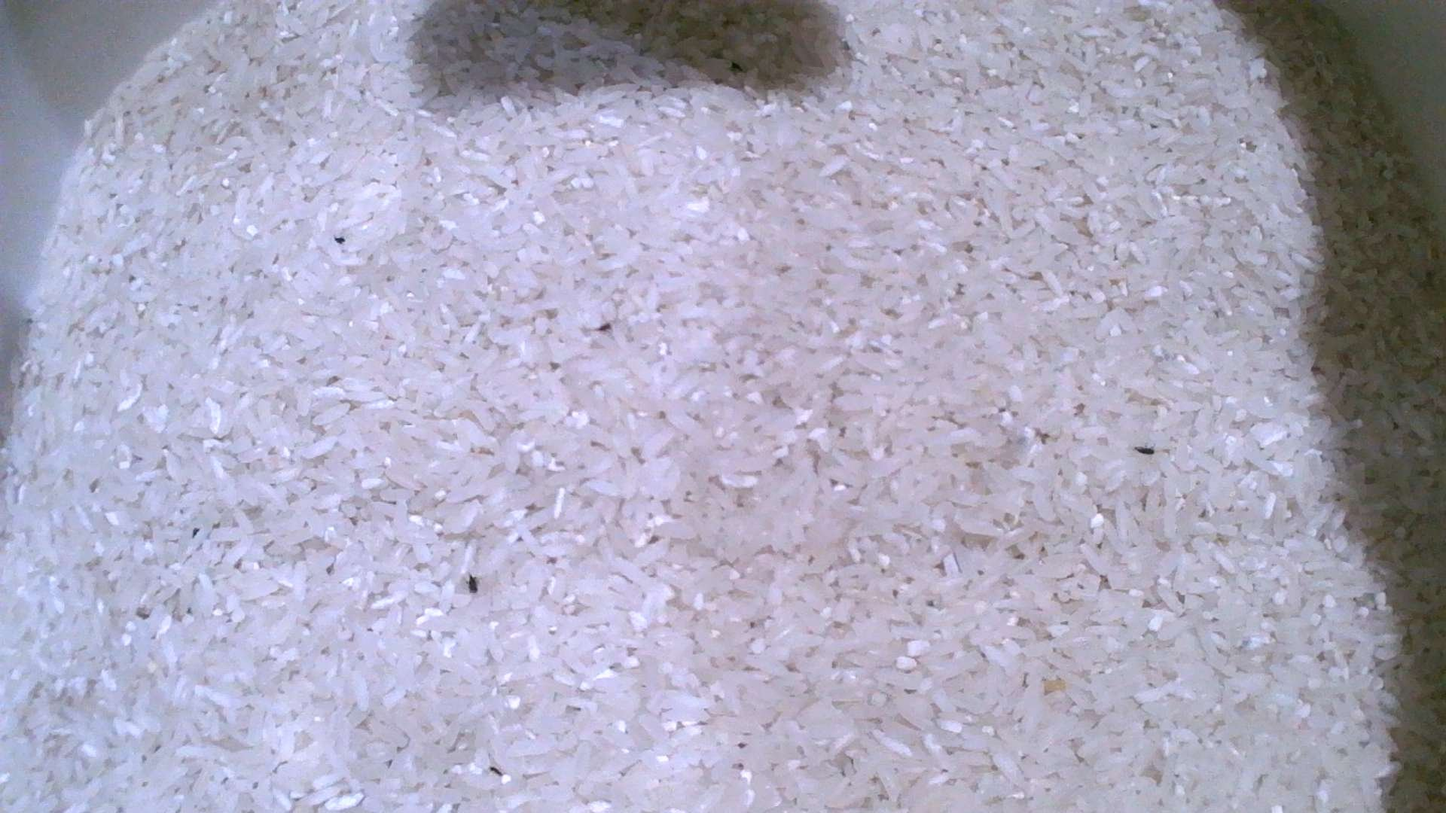Sitophilus-Oryzae: (1133, 446, 1155, 455), (469, 574, 477, 592)
